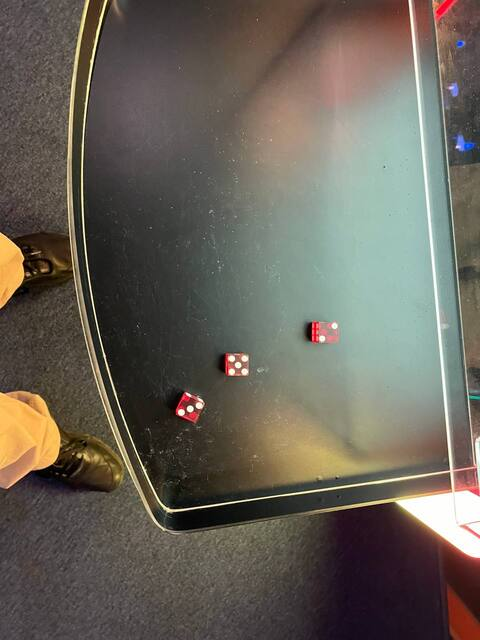five: (222, 349, 253, 379)
three: (172, 390, 207, 425)
two: (314, 318, 342, 347)
